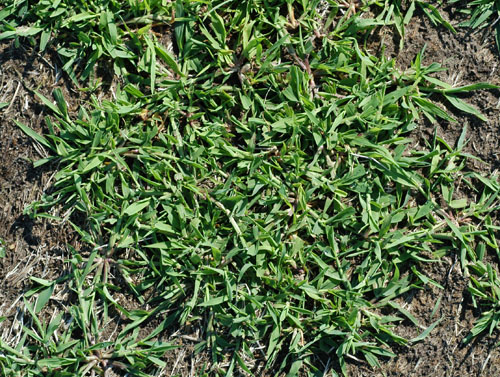crabgrass: (49, 46, 479, 367)
